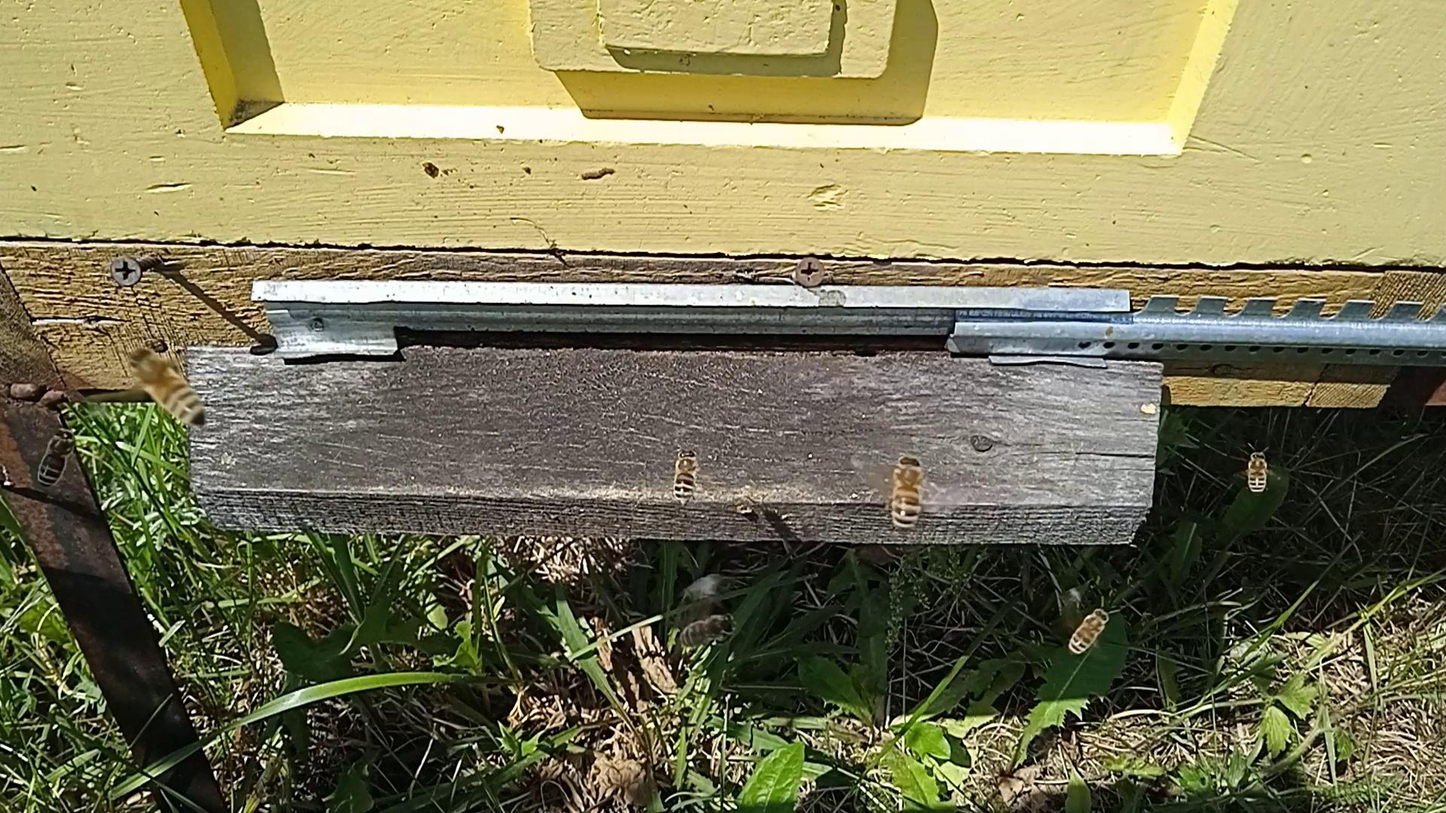worker-bee: (127, 344, 205, 425), (887, 454, 926, 531), (36, 428, 76, 488), (676, 612, 739, 649), (1066, 607, 1111, 655), (671, 447, 701, 505), (1247, 449, 1269, 495)
